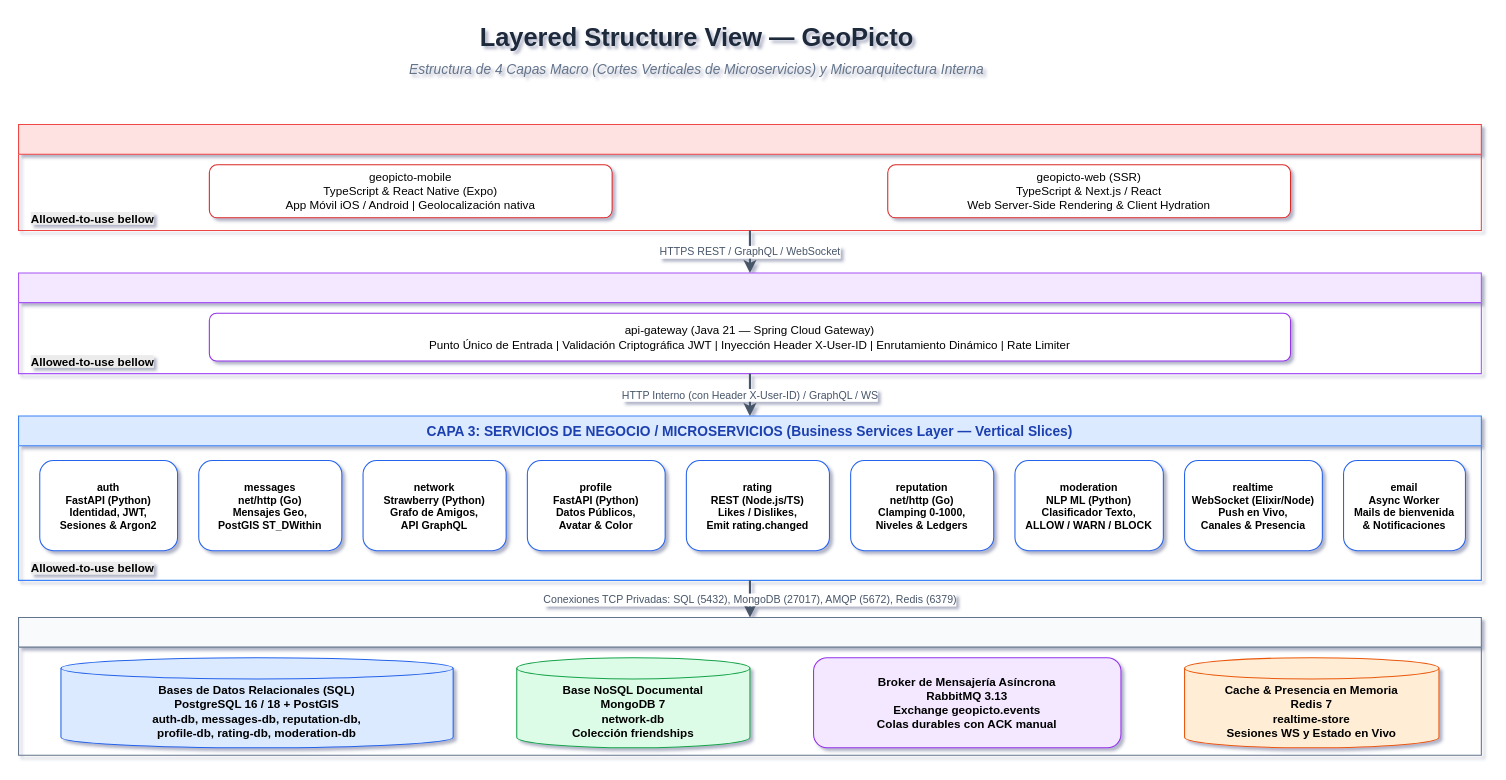
The diagram is 1506 pixels wide and 780 high, and some of its shapes have lost their labels. The box of each missing label's shape, as (x1, y1, x2, y2) in pixels:
CAPA 1: PRESENTACIÓN / CLIENTES (Presentation Layer): (17, 123, 1481, 231)
CAPA 2: BORDE, ENRUTAMIENTO Y SEGURIDAD (API Gateway & Edge Layer): (17, 272, 1481, 374)
CAPA 4: PERSISTENCIA, DATOS E INFRAESTRUCTURA (Persistence, Data & Broker Layer): (17, 616, 1481, 755)
